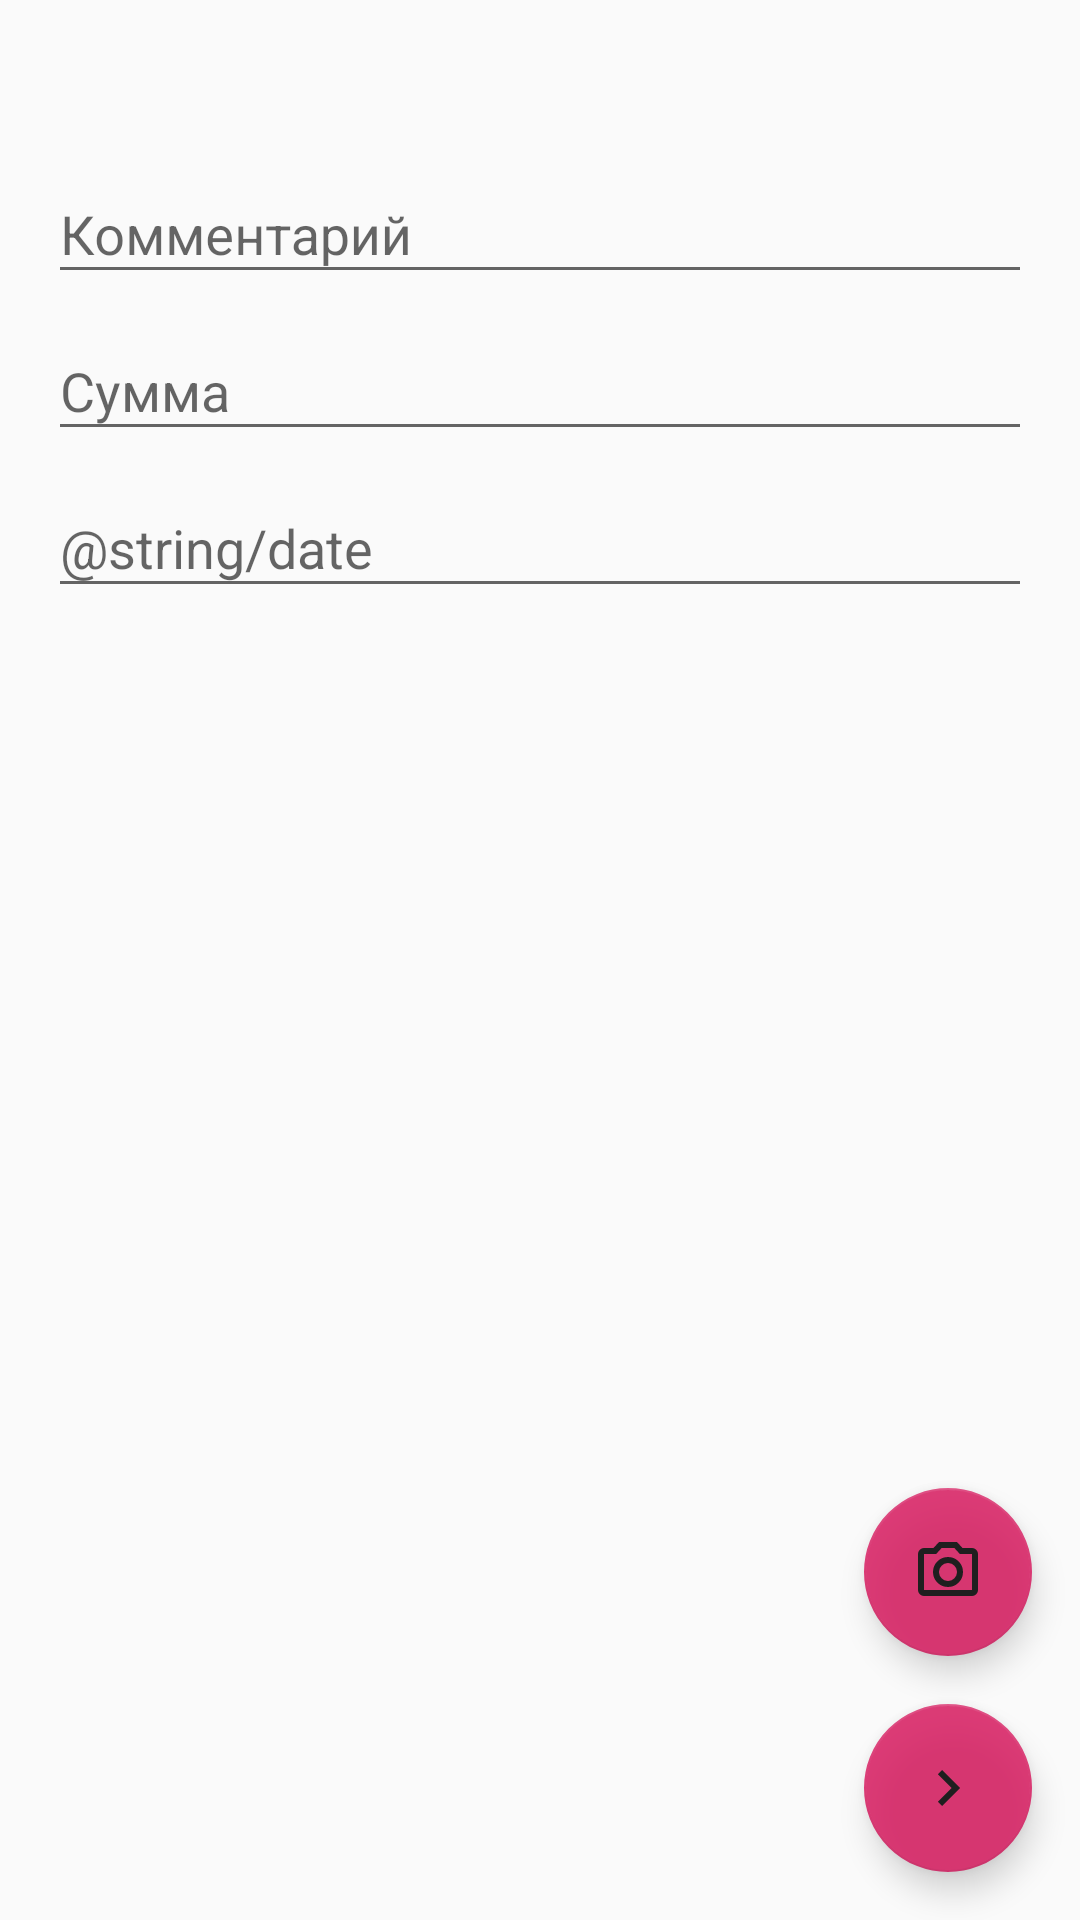

Where to tap for icons on this 1080 x 1920 app screen, as (x,y):
camera: (948,1572)
next: (948,1788)
